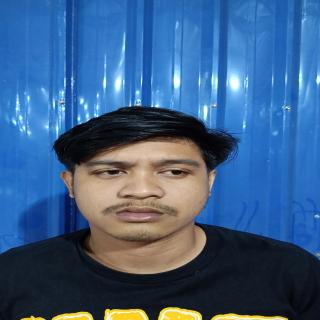Sedih: (70, 128, 215, 248)
